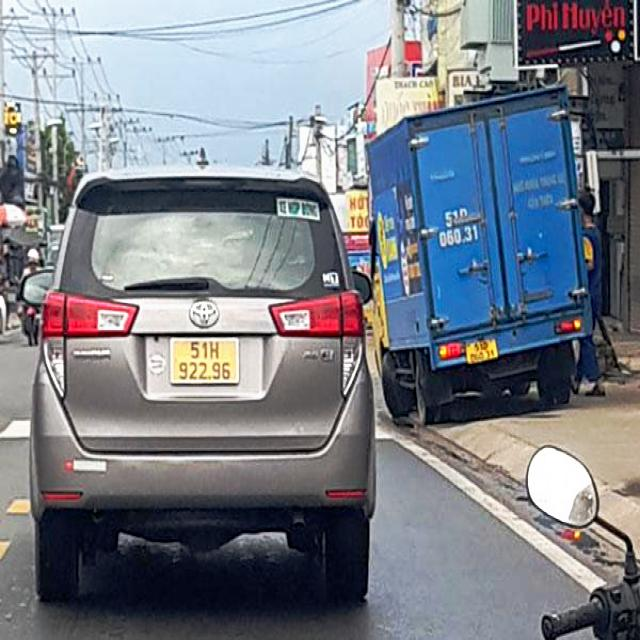license_plate: (174, 337, 240, 387)
